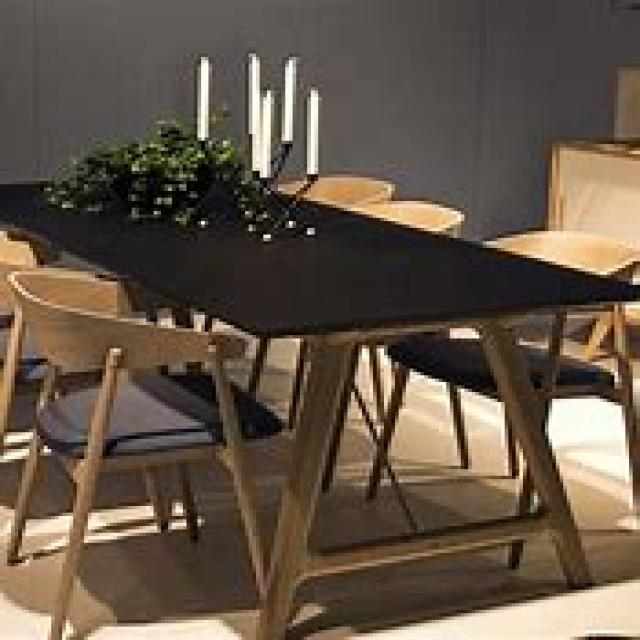chair: (4, 268, 274, 637)
table: (0, 174, 636, 636)
